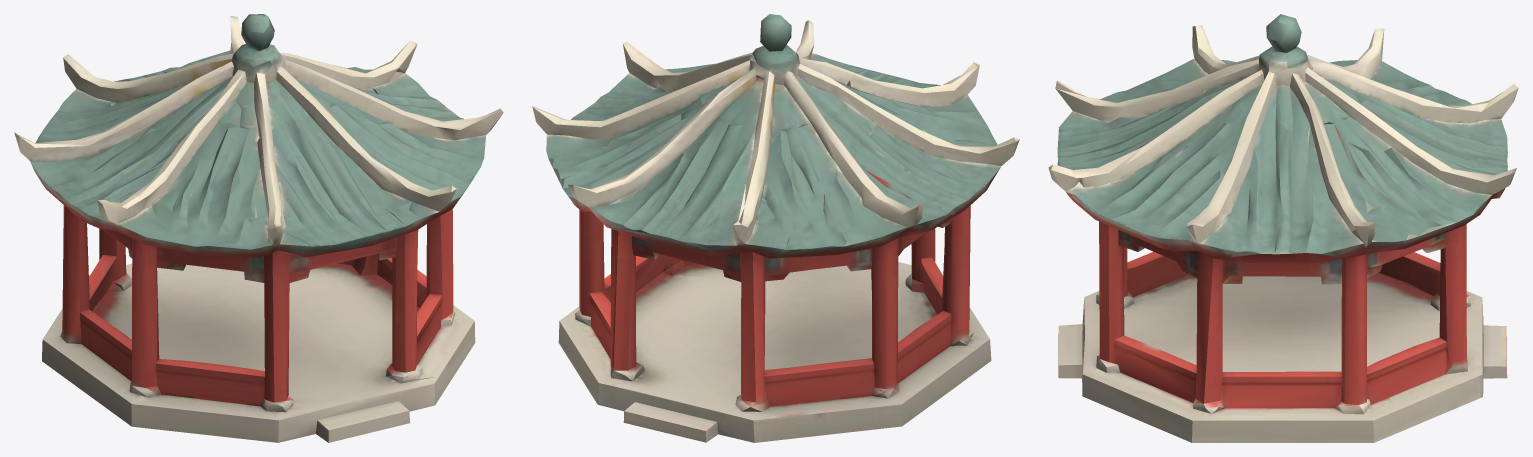
File: w4-chinese-pavilion.glb
3 views of the same model, side by side, from view 1: azimuth 30°, elevation 25°; view 2: azimuth 150°, elevation 25°; view 3: azimuth 270°, elevation 25° (orthographic).
Visible parts, largest first — view 1: w4-chinese-pavilion; view 2: w4-chinese-pavilion; view 3: w4-chinese-pavilion.
Boxes of the visible parts, x1,y1,x2,y2 form: w4-chinese-pavilion: (14,14,503,442); w4-chinese-pavilion: (532,14,1019,442); w4-chinese-pavilion: (1048,14,1518,442).
Size of the model in its own units: 5.62 by 4.5 by 5.61.
1 material, 1 textured.
